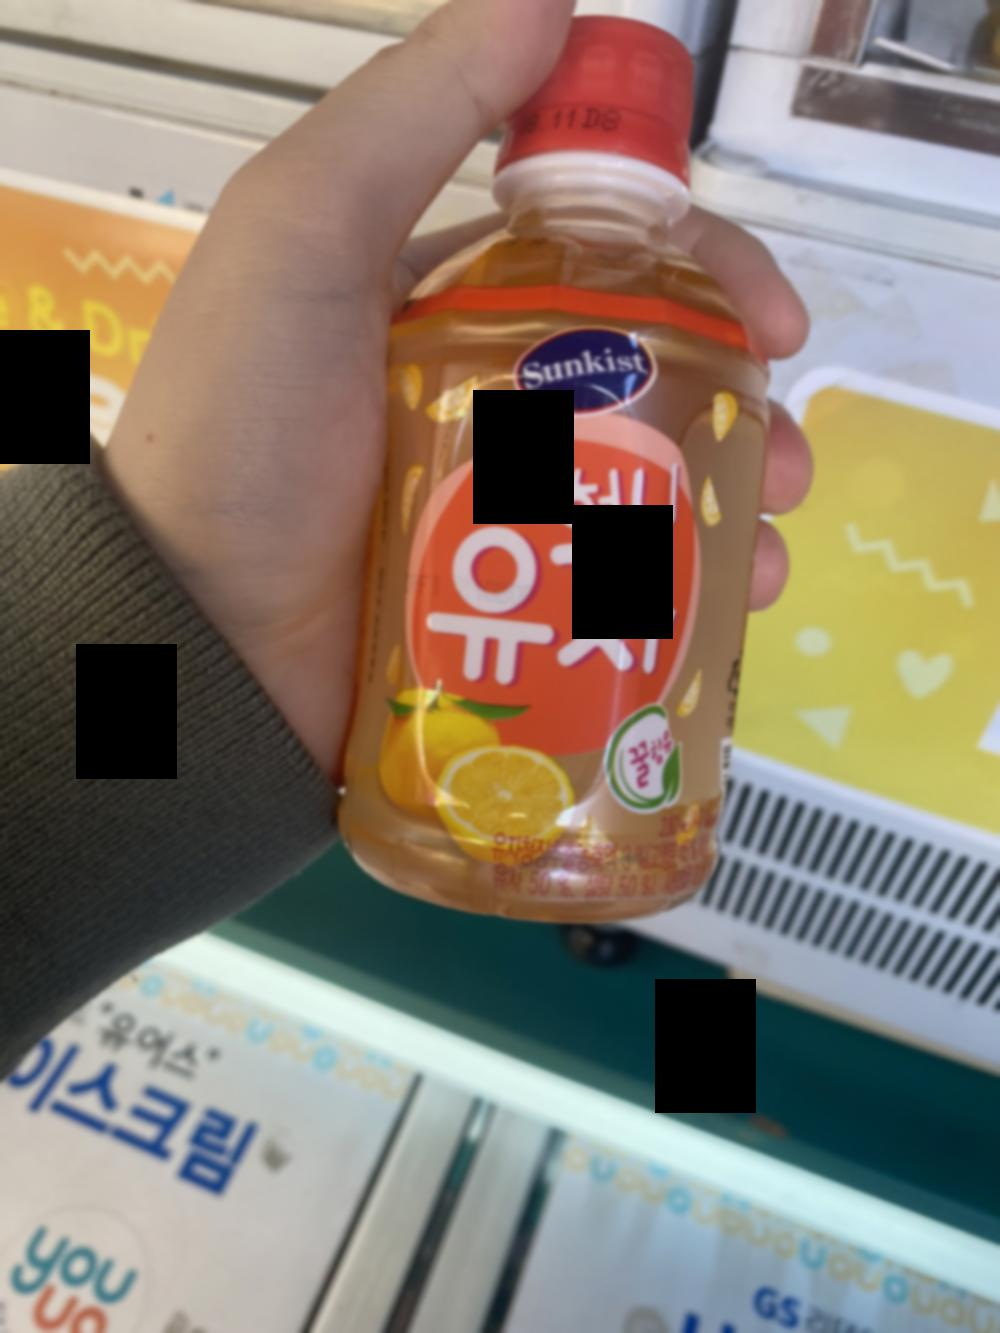honeyyuja: (375, 24, 763, 915)
